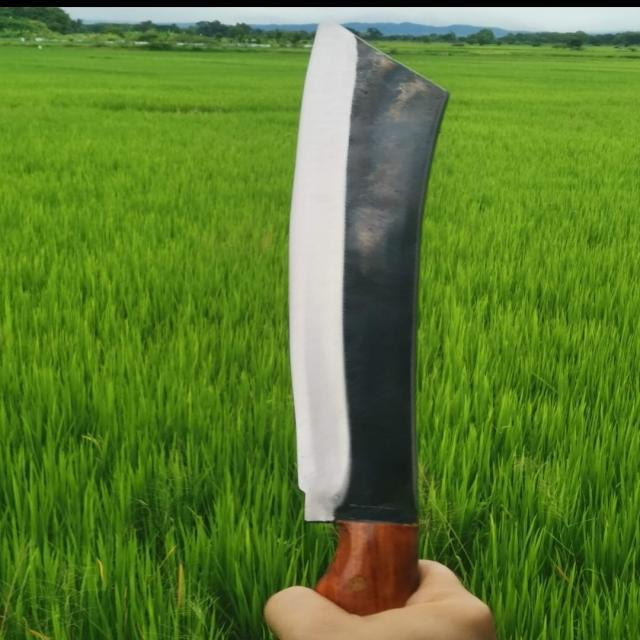eto: (263, 13, 496, 640)
